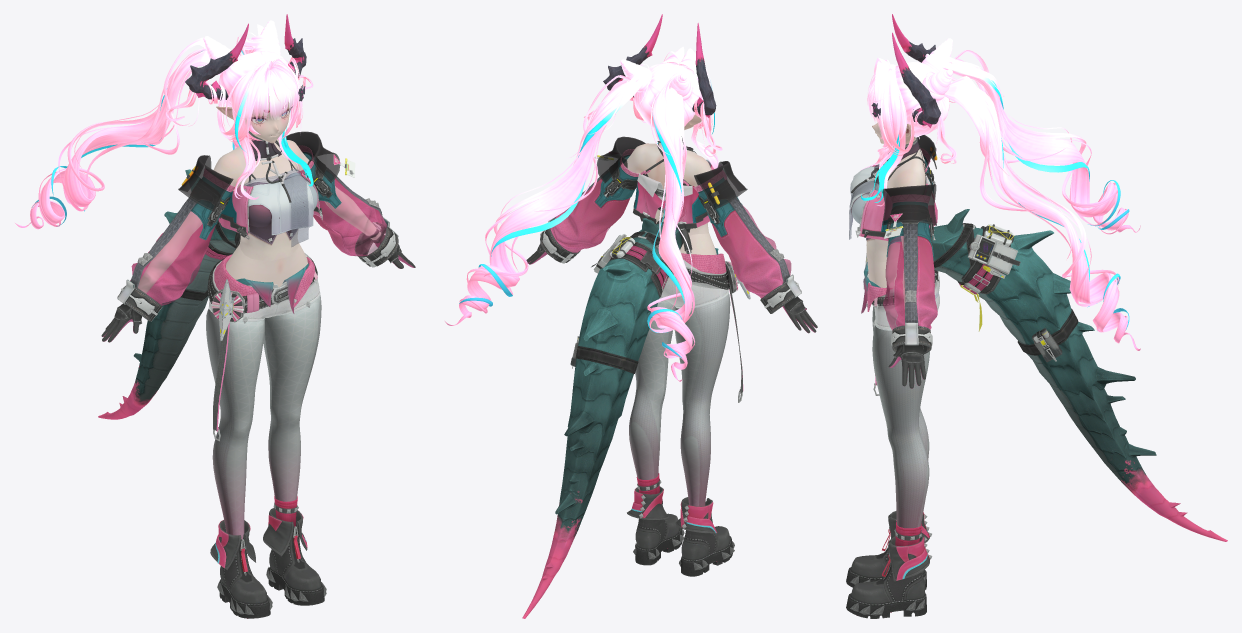
File: Yvonne.glb
3 views of the same model, side by side, from view 1: azimuth 30°, elevation 25°; view 2: azimuth 150°, elevation 25°; view 3: azimuth 270°, elevation 25° (orthographic). The views are drawn at different scales.
Parts seen in each view (by area): view 1: b.fbx_5, c.fbx_14, d.fbx_17, a.fbx_0; view 2: b.fbx_5, c.fbx_14, d.fbx_17; view 3: b.fbx_5, c.fbx_14, d.fbx_17.
Boxes of the visible parts, x1=… form: b.fbx_5: x1=15, y1=20, x2=380, y2=539; c.fbx_14: x1=101, y1=14, x2=415, y2=618; d.fbx_17: x1=138, y1=131, x2=387, y2=305; a.fbx_0: x1=216, y1=86, x2=301, y2=143; b.fbx_5: x1=445, y1=46, x2=730, y2=618; c.fbx_14: x1=526, y1=14, x2=817, y2=576; d.fbx_17: x1=597, y1=136, x2=791, y2=275; b.fbx_5: x1=861, y1=38, x2=1227, y2=541; c.fbx_14: x1=846, y1=14, x2=940, y2=618; d.fbx_17: x1=849, y1=135, x2=936, y2=330.
Size of the model in its own units: 1.1 by 1.96 by 1.18.
Materials: 8 (8 with a texture image).
